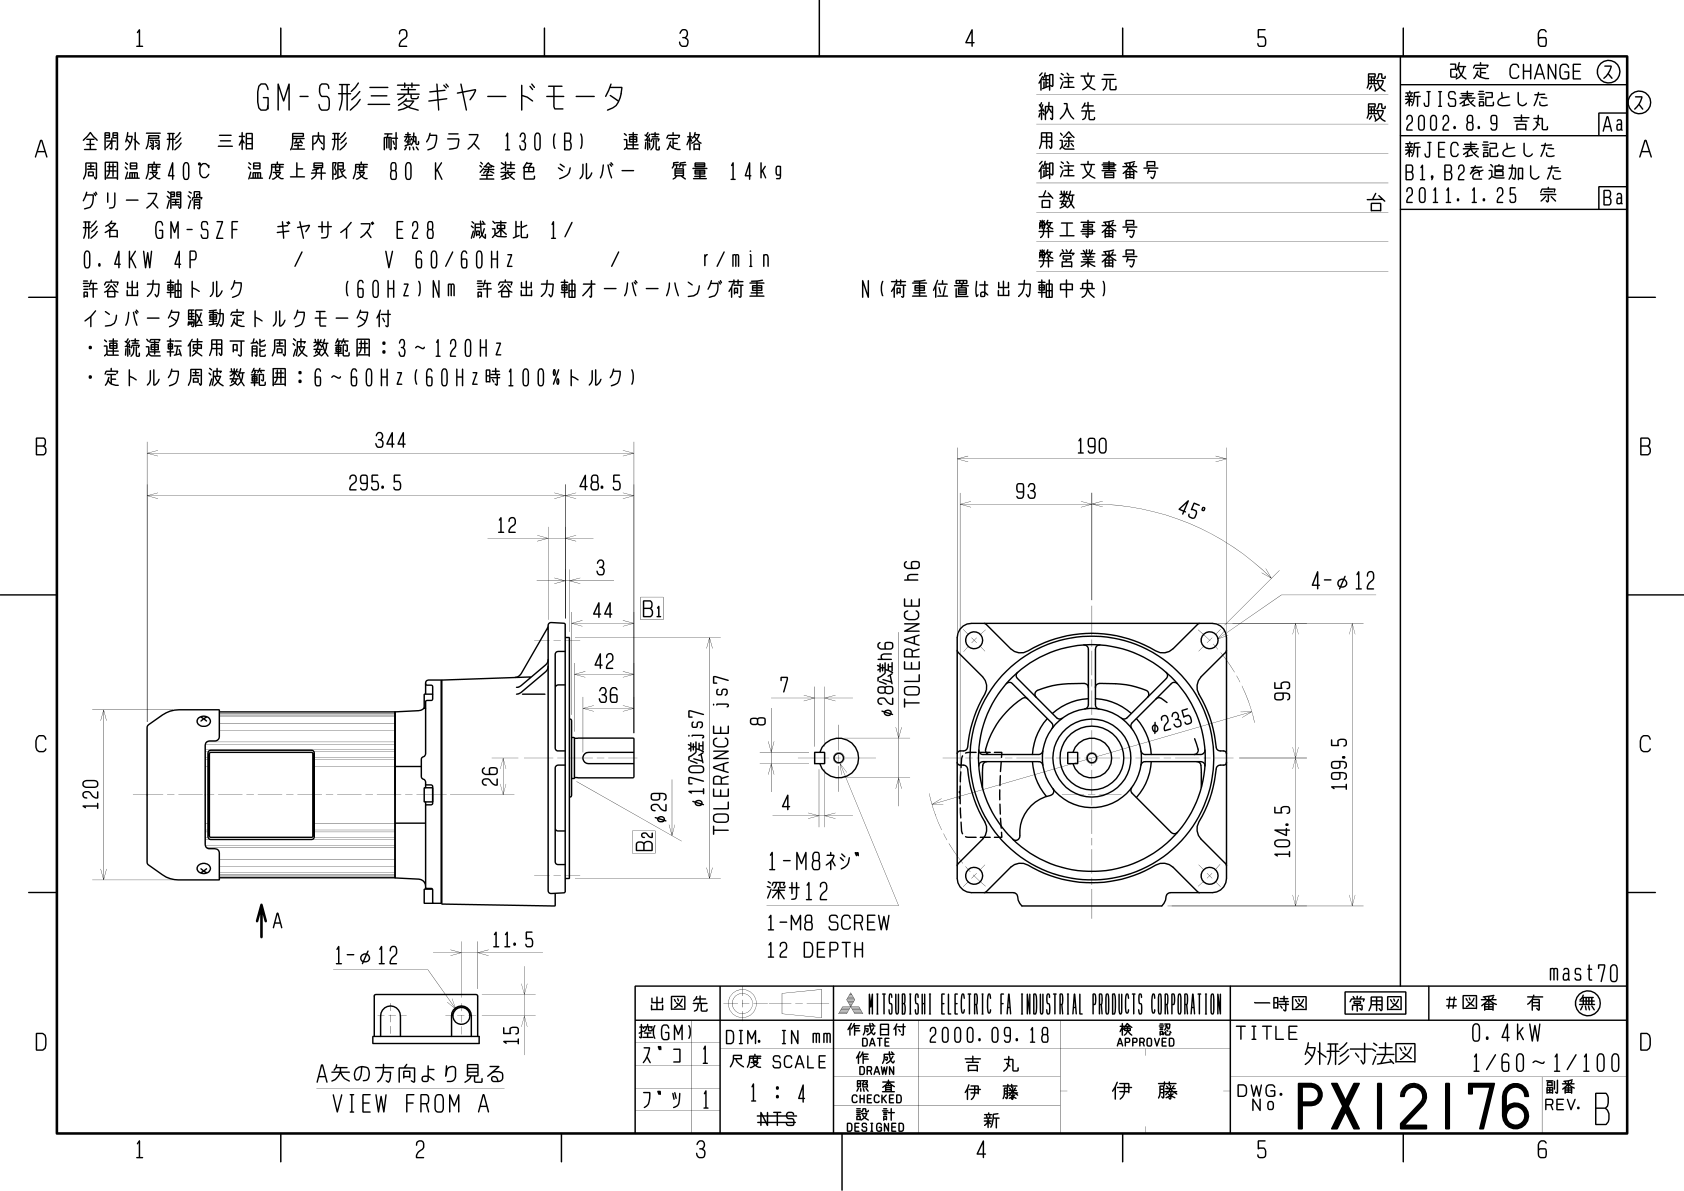GM_S_インバタ屋内＿三相_フランジ: (6, 13, 1684, 1191)
